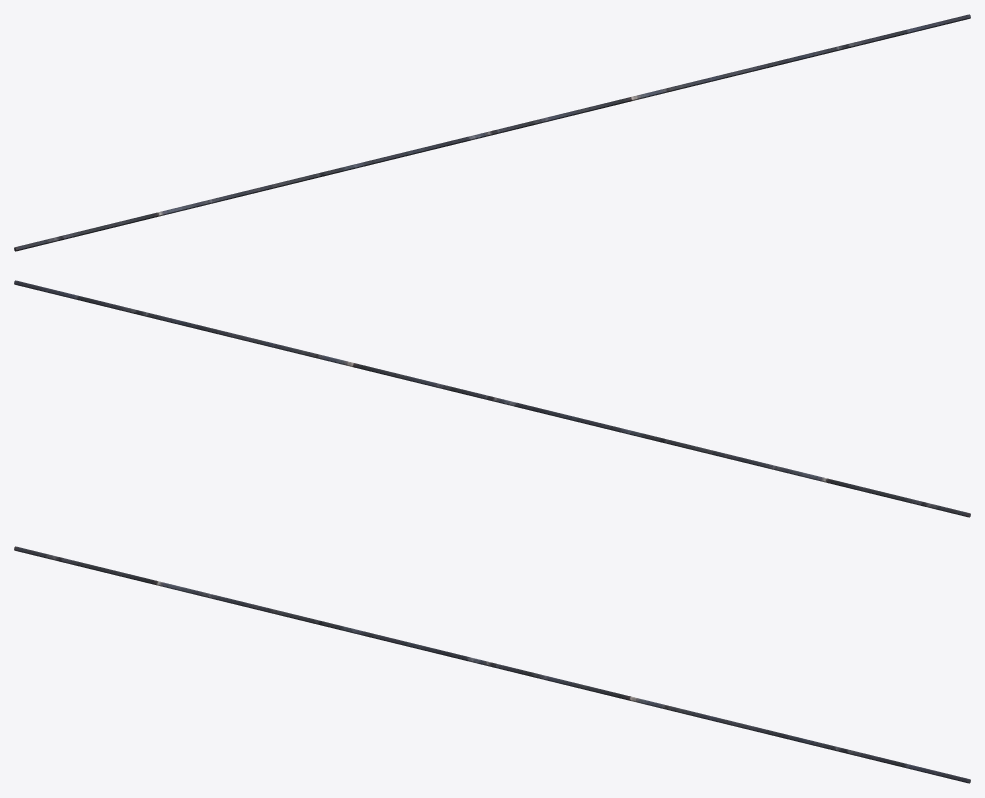
Rendered from tripwire_iron.glb.
The picture shows the model from 3 angles, top to bottom: view 1: azimuth 30°, elevation 25°; view 2: azimuth 150°, elevation 25°; view 3: azimuth 330°, elevation 25°; orthographic projection.
Visible parts, largest first — view 1: wire_r, wire_l; view 2: wire_r, wire_l; view 3: wire_r, wire_l.
Boxes of the visible parts, <box> form: wire_r: <box>484,14,970,136</box>; wire_l: <box>14,132,500,251</box>; wire_r: <box>14,280,500,402</box>; wire_l: <box>484,398,970,517</box>; wire_r: <box>484,661,970,783</box>; wire_l: <box>14,546,499,668</box>.
Bounding box in the file's own units: 1 × 0.00346 × 0.004.
1 material, 1 textured.
